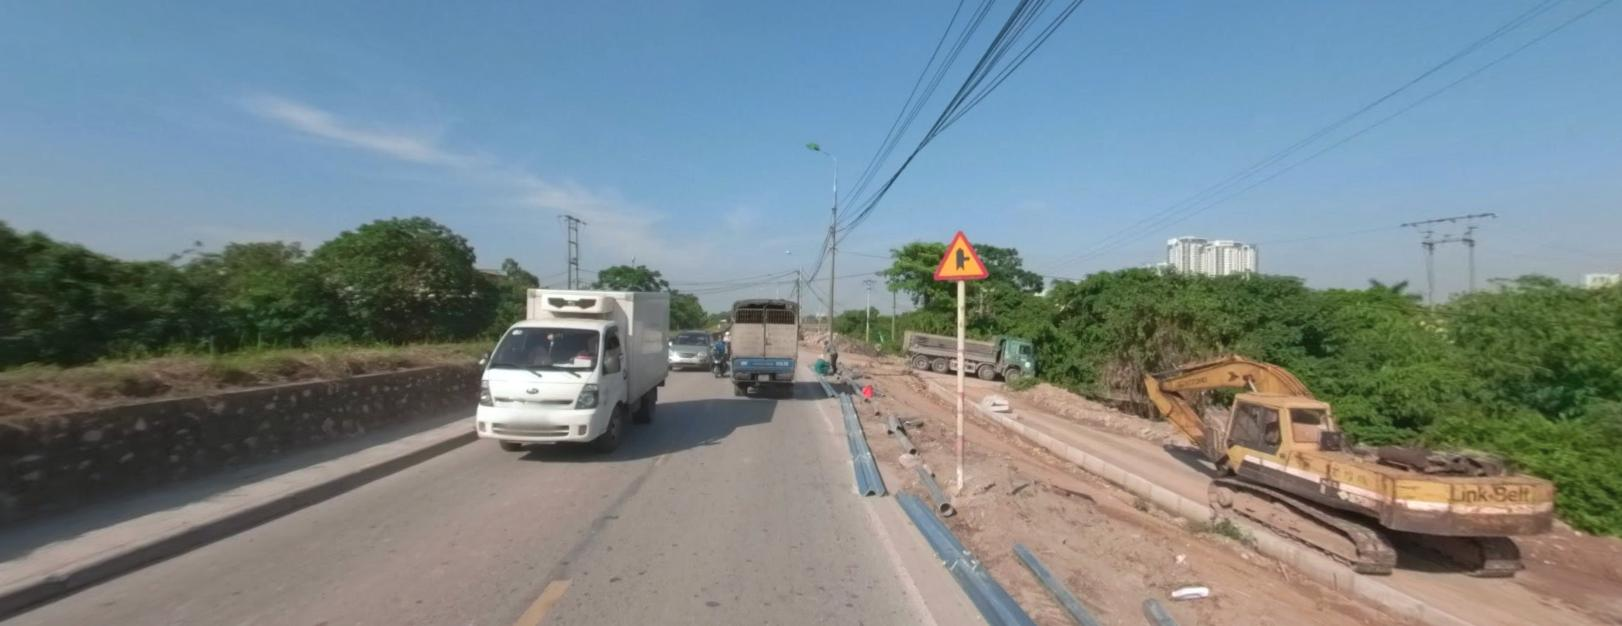Nguy hiem: (922, 225, 992, 287)
